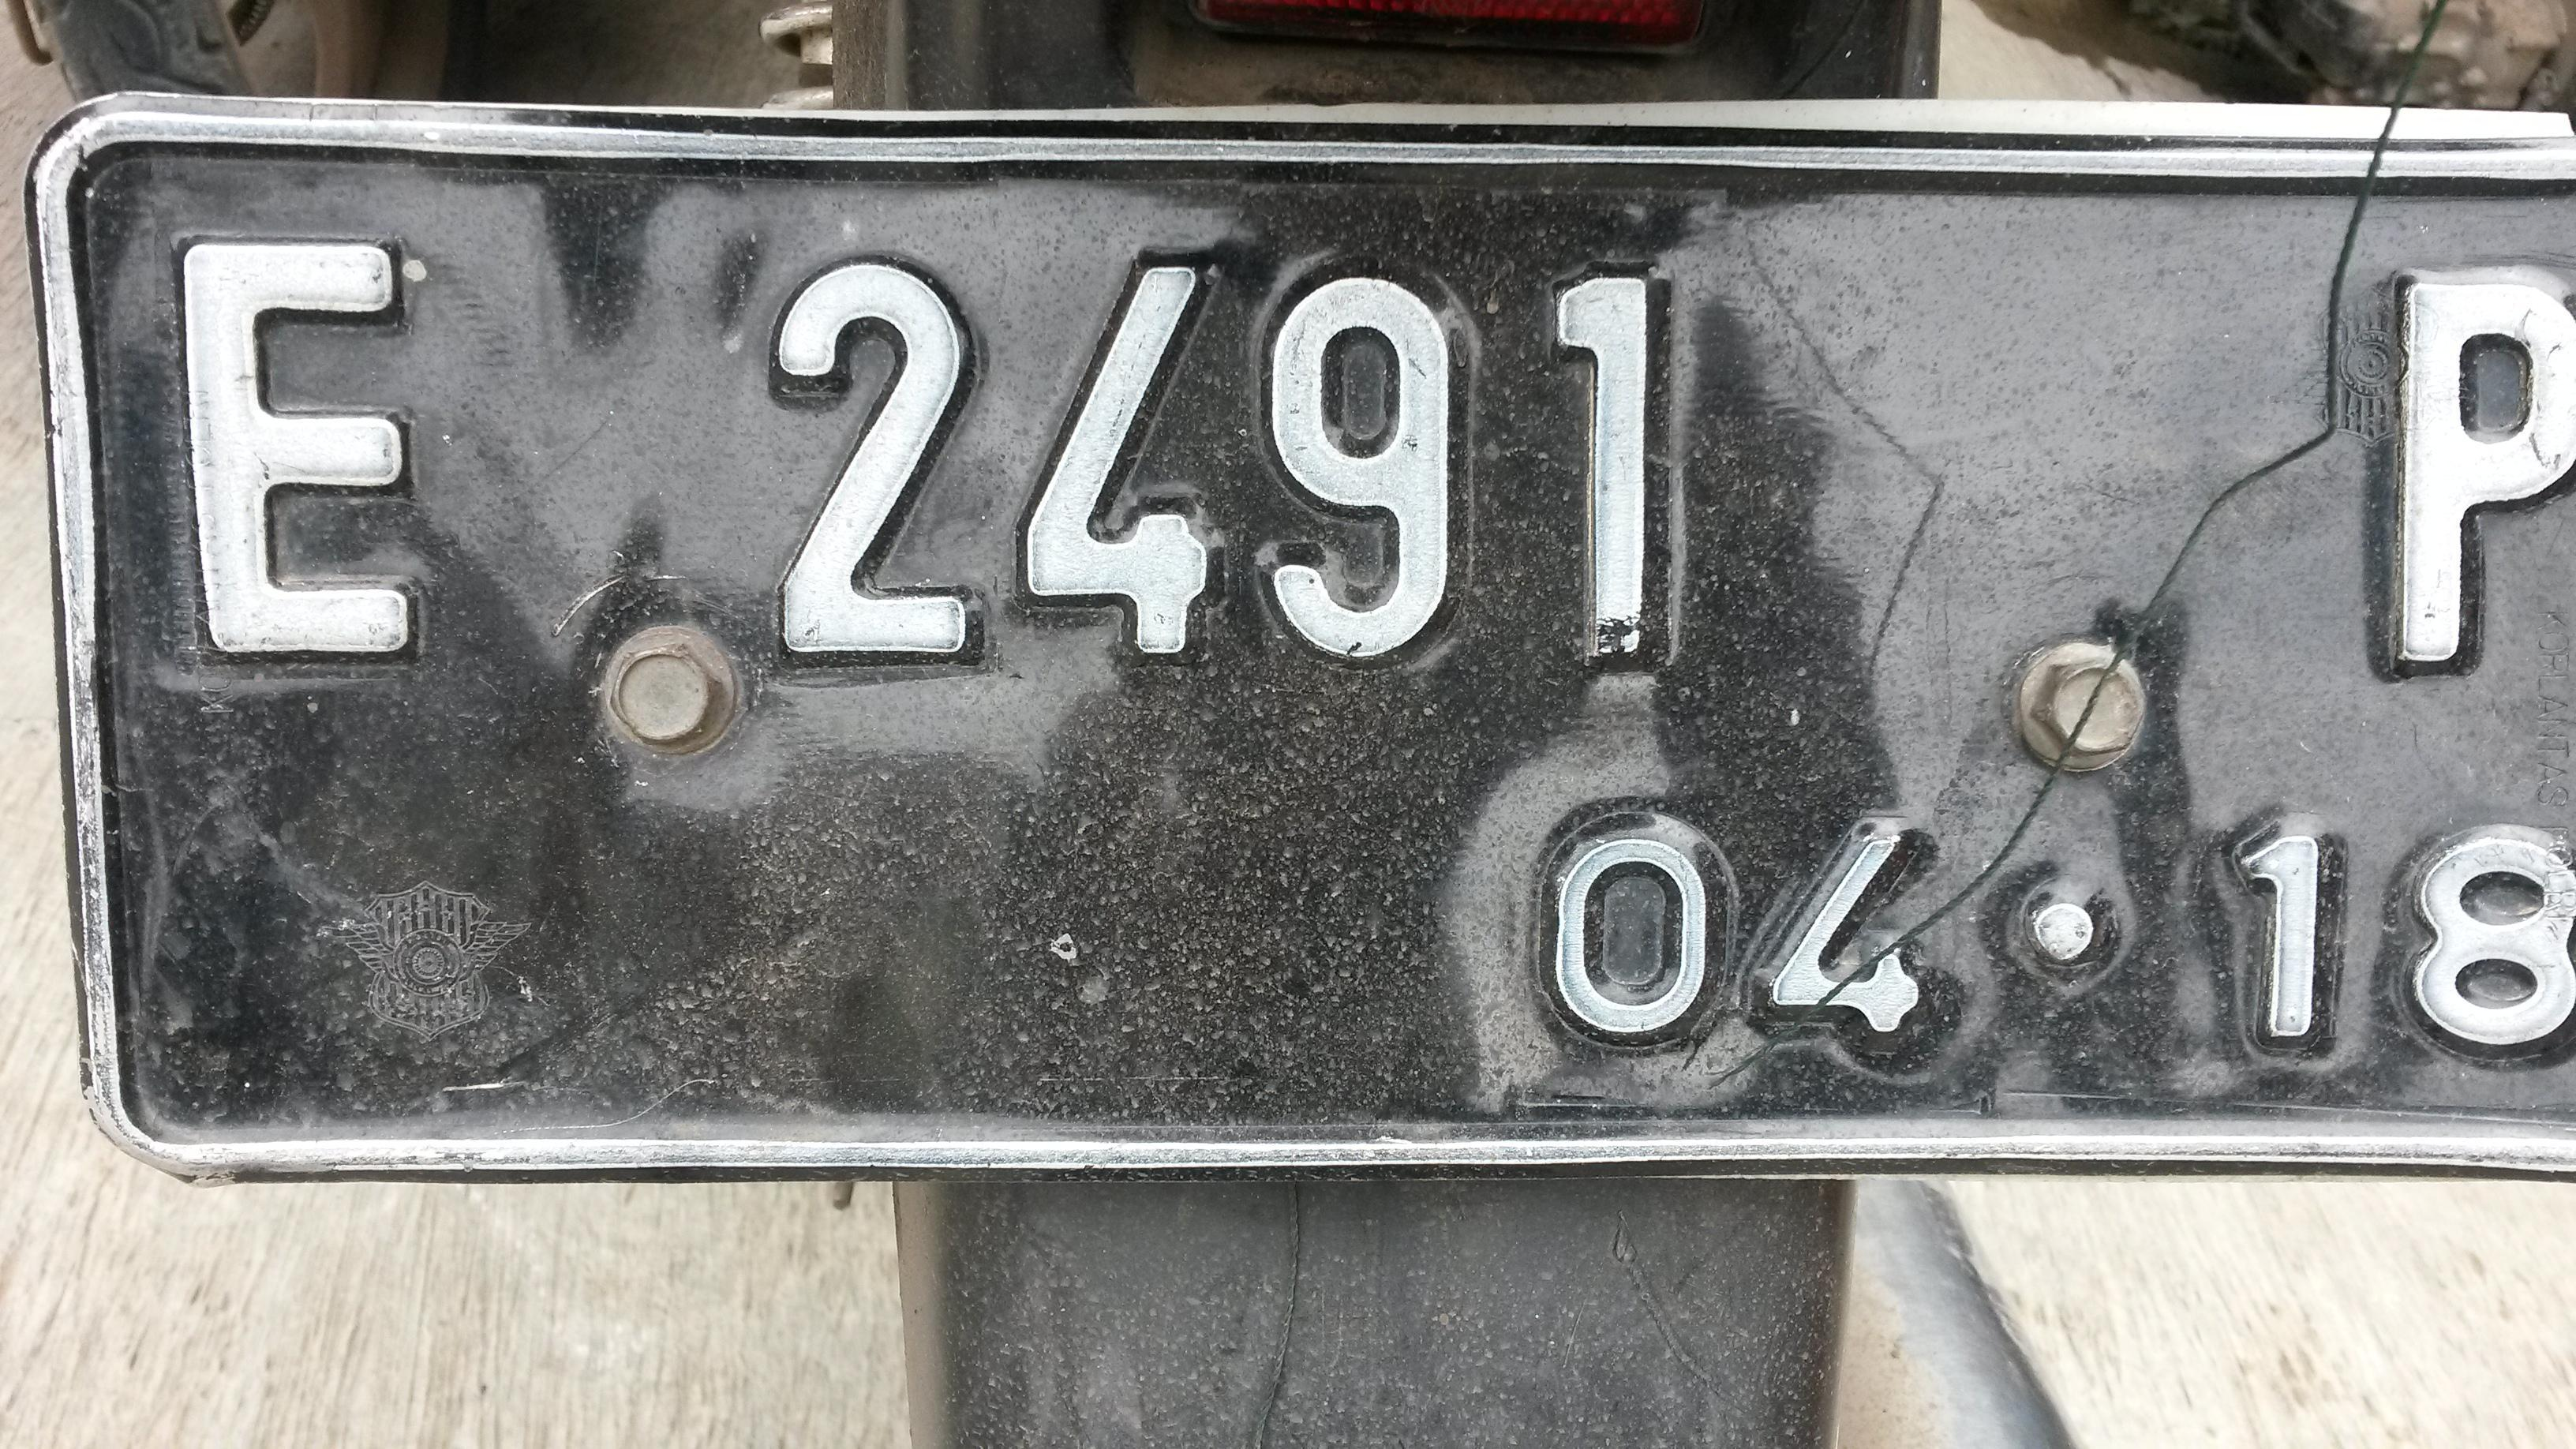clone-license-plate: (24, 90, 2575, 1185)
